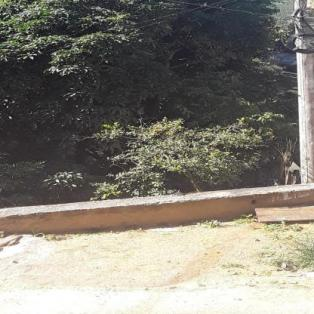Poste: (268, 0, 314, 181)
